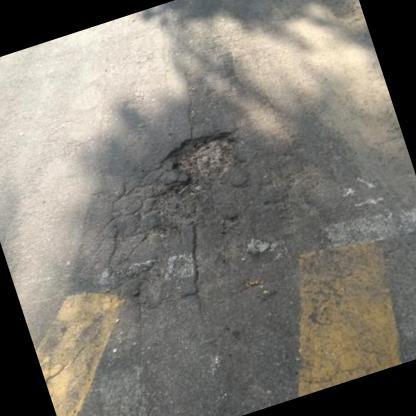pothole: (156, 121, 255, 198), (144, 174, 212, 236), (125, 261, 176, 317)
